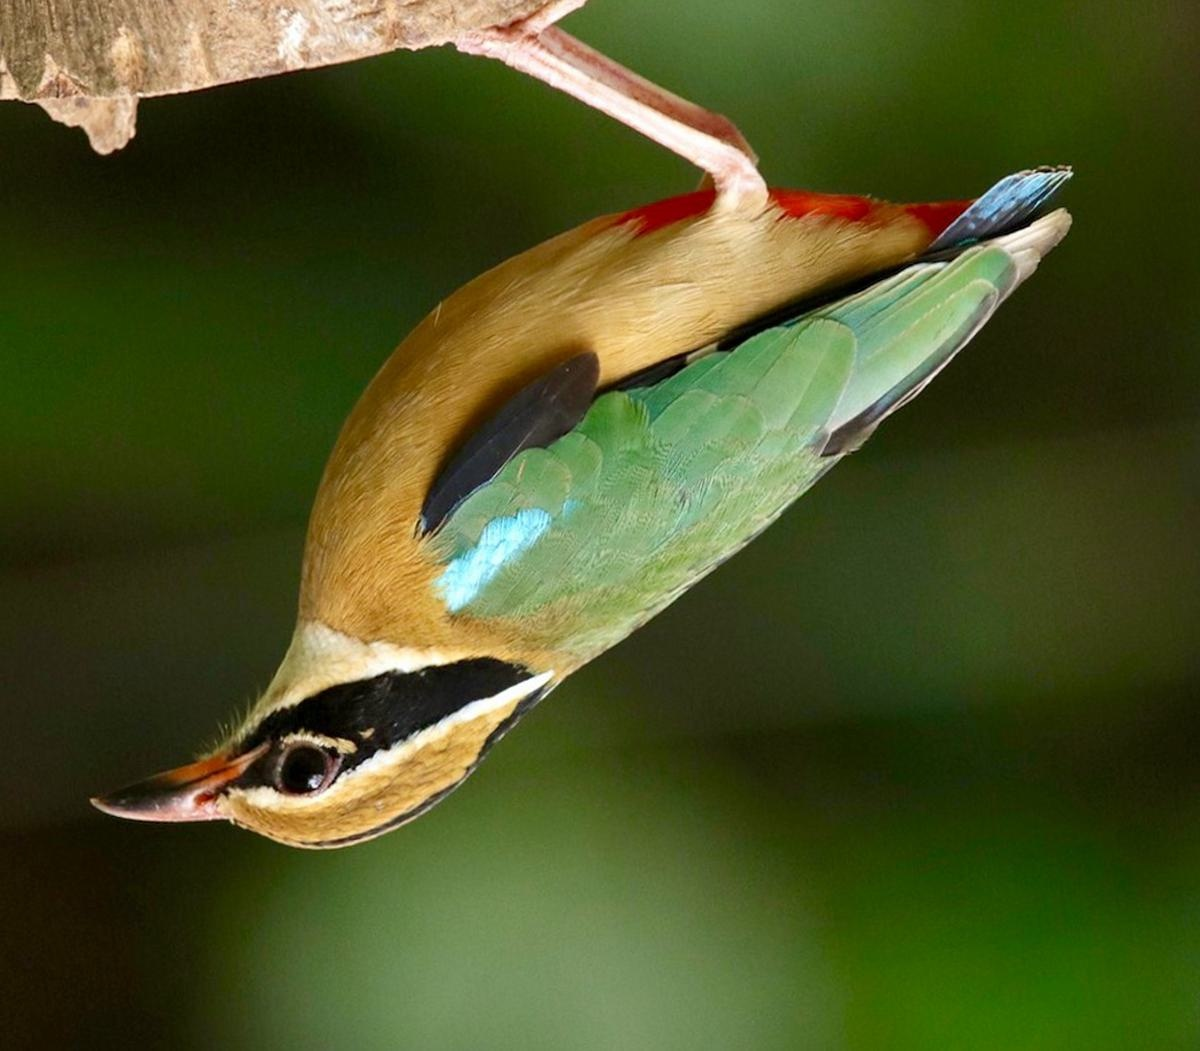pitta: (79, 54, 1060, 891)
